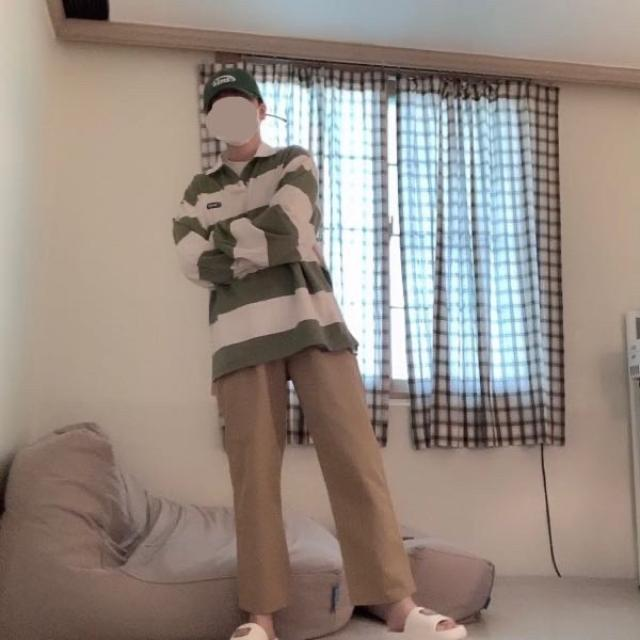cottonpants: (215, 334, 416, 610)
mtm: (169, 143, 361, 375)
